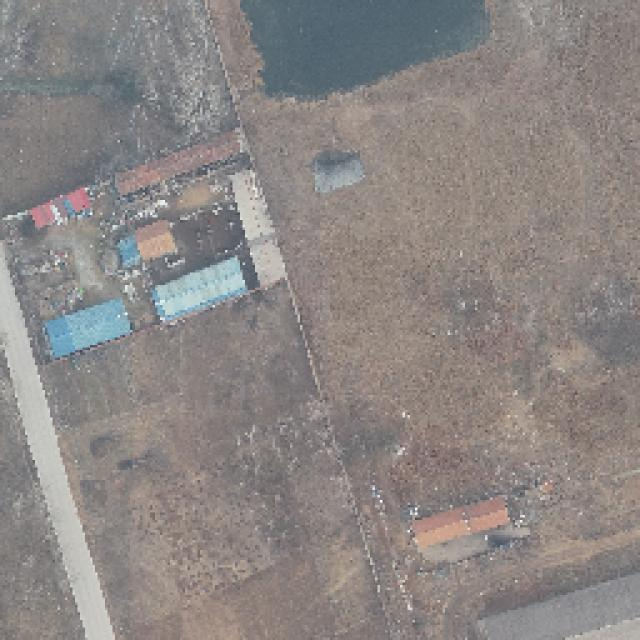Batiment: (117, 133, 238, 194), (230, 170, 286, 286), (152, 257, 246, 321), (46, 301, 129, 357), (413, 499, 506, 547), (31, 191, 89, 228), (315, 152, 365, 193), (135, 220, 176, 261), (118, 235, 141, 267)
